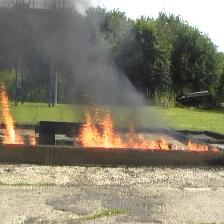fire: (78, 106, 170, 150), (0, 84, 26, 144), (187, 139, 224, 151)
